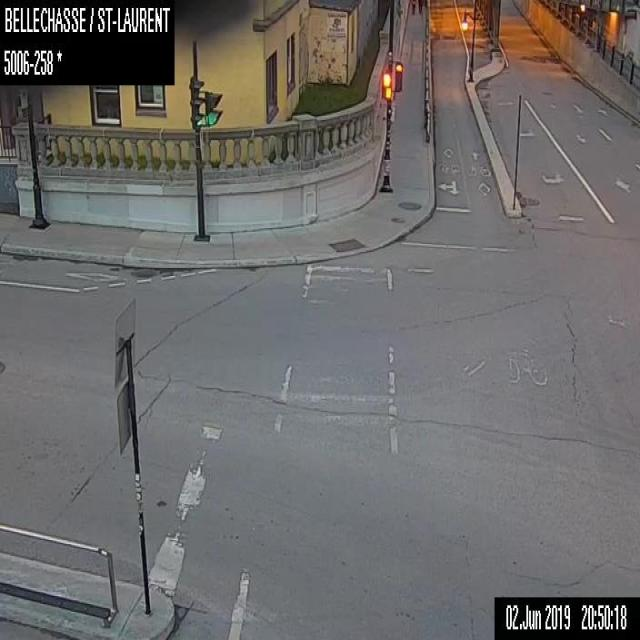pedestrian: (417, 0, 422, 12), (410, 0, 414, 13)
